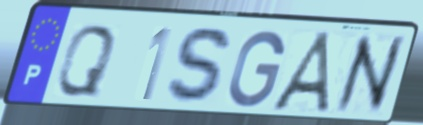1: (141, 26, 174, 103)
A: (267, 29, 336, 117)
G: (224, 29, 288, 111)
N: (332, 33, 407, 117)
Q: (52, 22, 119, 99)
S: (163, 24, 236, 108)
